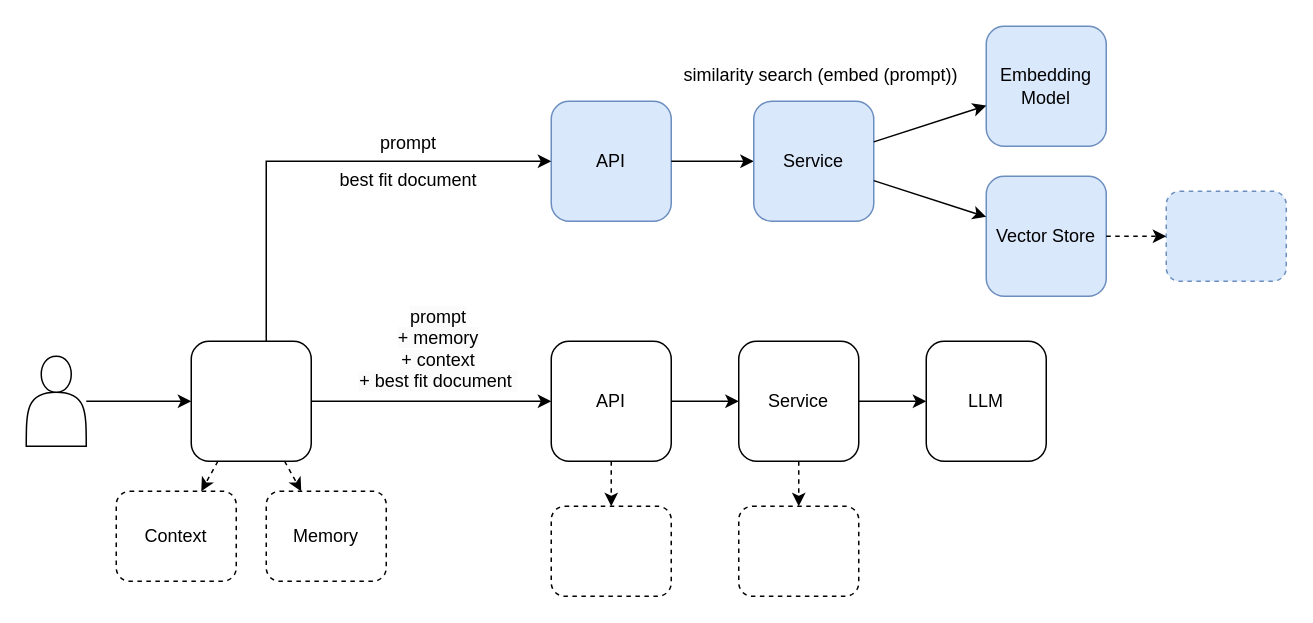
Some shapes in this 1313 by 623 pixel diagram are drawn without their labels. The shapes that lost their labels are listed below. From the top down, each one's centre as x and y in pixels, then its label:
(x=1225, y=235): Embeddings Documents
(x=250, y=400): User Agent
(x=610, y=550): Auth
(x=798, y=550): Quality
